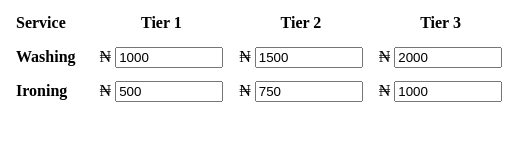
it: PricingEditor › shows validation error for non-numeric input
Replace the text in the number field named "Ironing tier 2 price" with "abc". click: [309, 91]
box: [255,80,363,102]
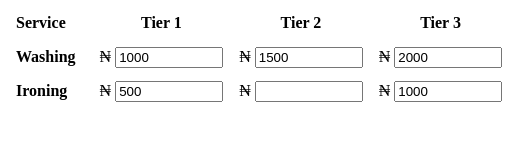
Leave the number field named "Ironing tier 2 price", box [255,80,363,102]
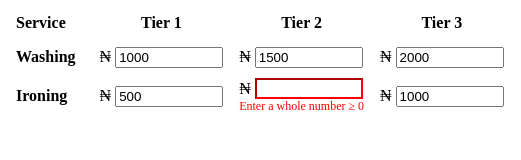
expect the text "Enter a whole number ≥ 0" is shown: met, box [239,99,364,114]
